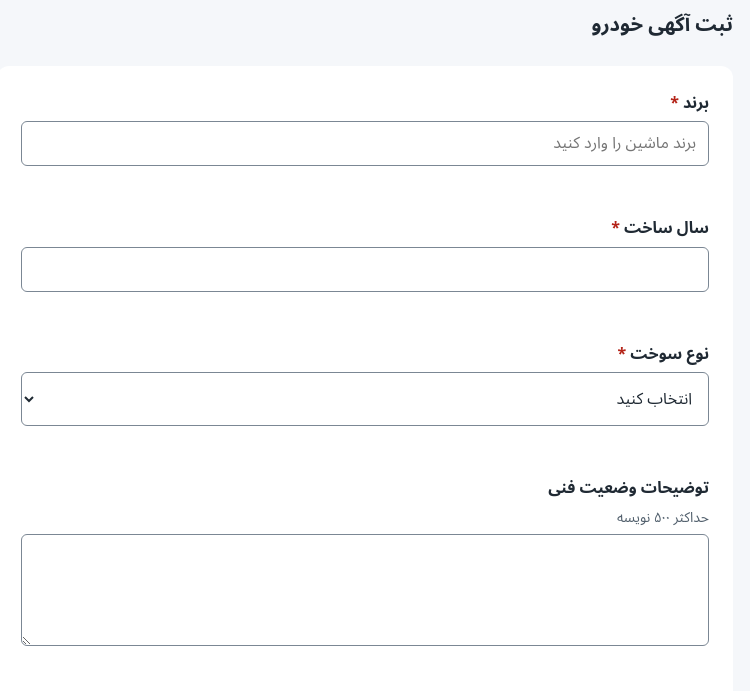
it: submitting (TC-E09, TC-E12 to TC-E15) › shows the fallback text of an error code it has no text for under the field, and keeps the data
In the field labelled "برند*": (365,144) [21,121,709,166], type "bad"
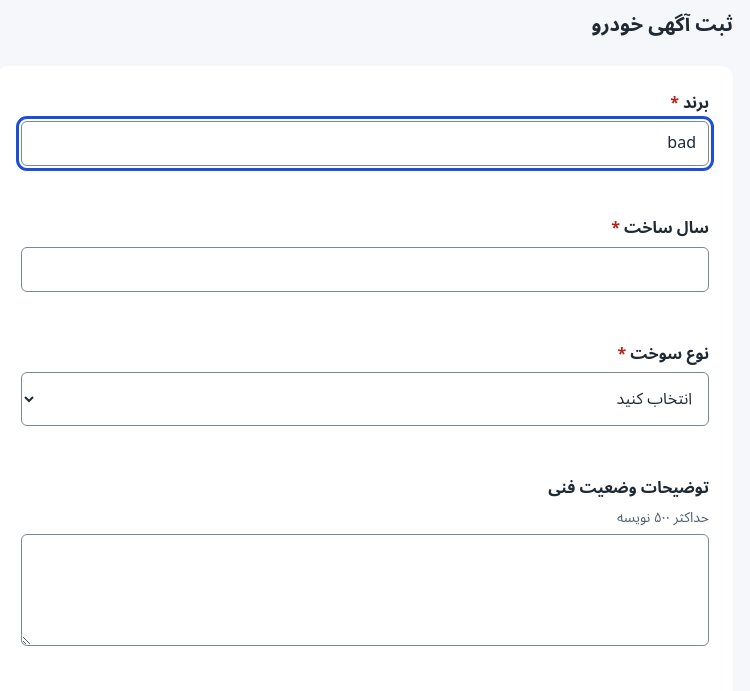
In the field labelled "سال ساخت*": (365,269) [21,247,709,292], type "2019"
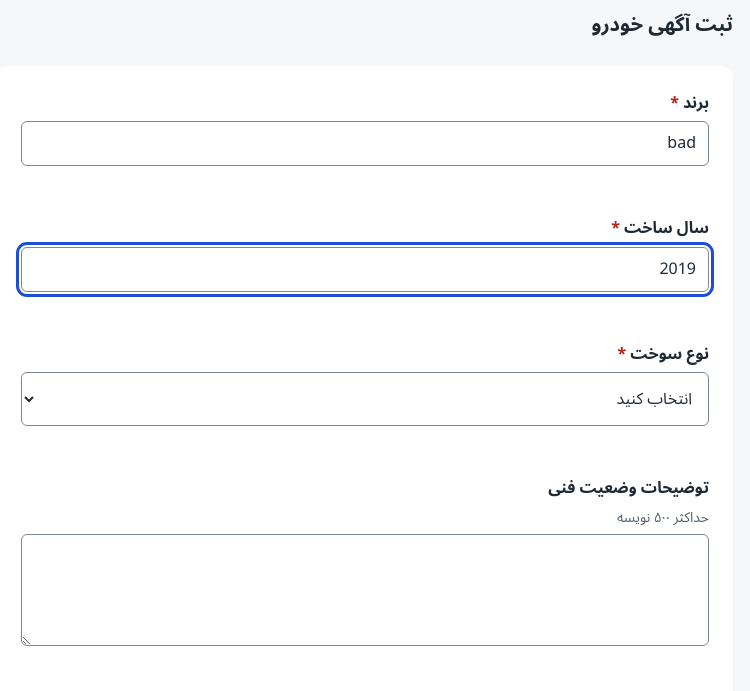
Select "بنزین" in the dropdown labelled "نوع سوخت*": (365,399) [21,372,709,426]
(page scrolled)
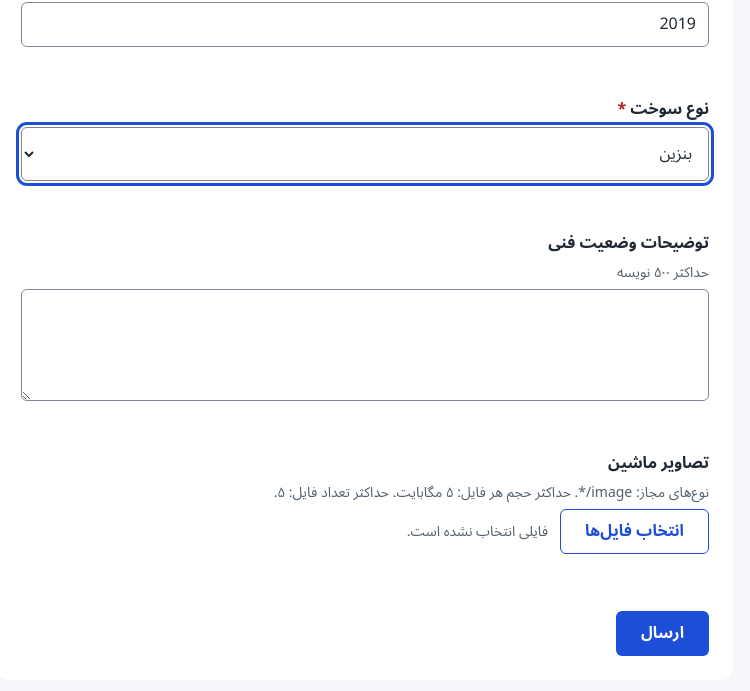
Click the button "ارسال": (662,634) [616,611,709,656]
(page scrolled)
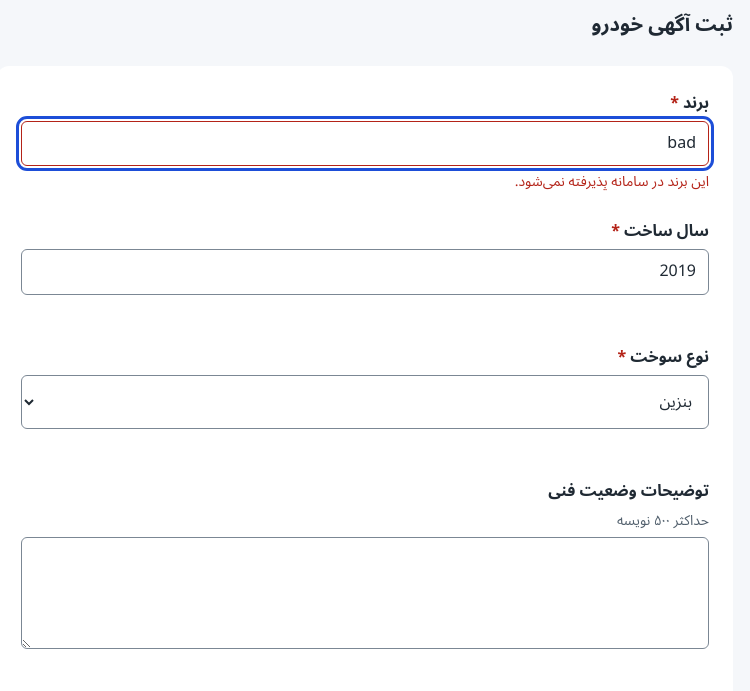
Now the text "این برند در سامانه پذیرفته نمی‌شود." is shown, box [515,167,709,196]
